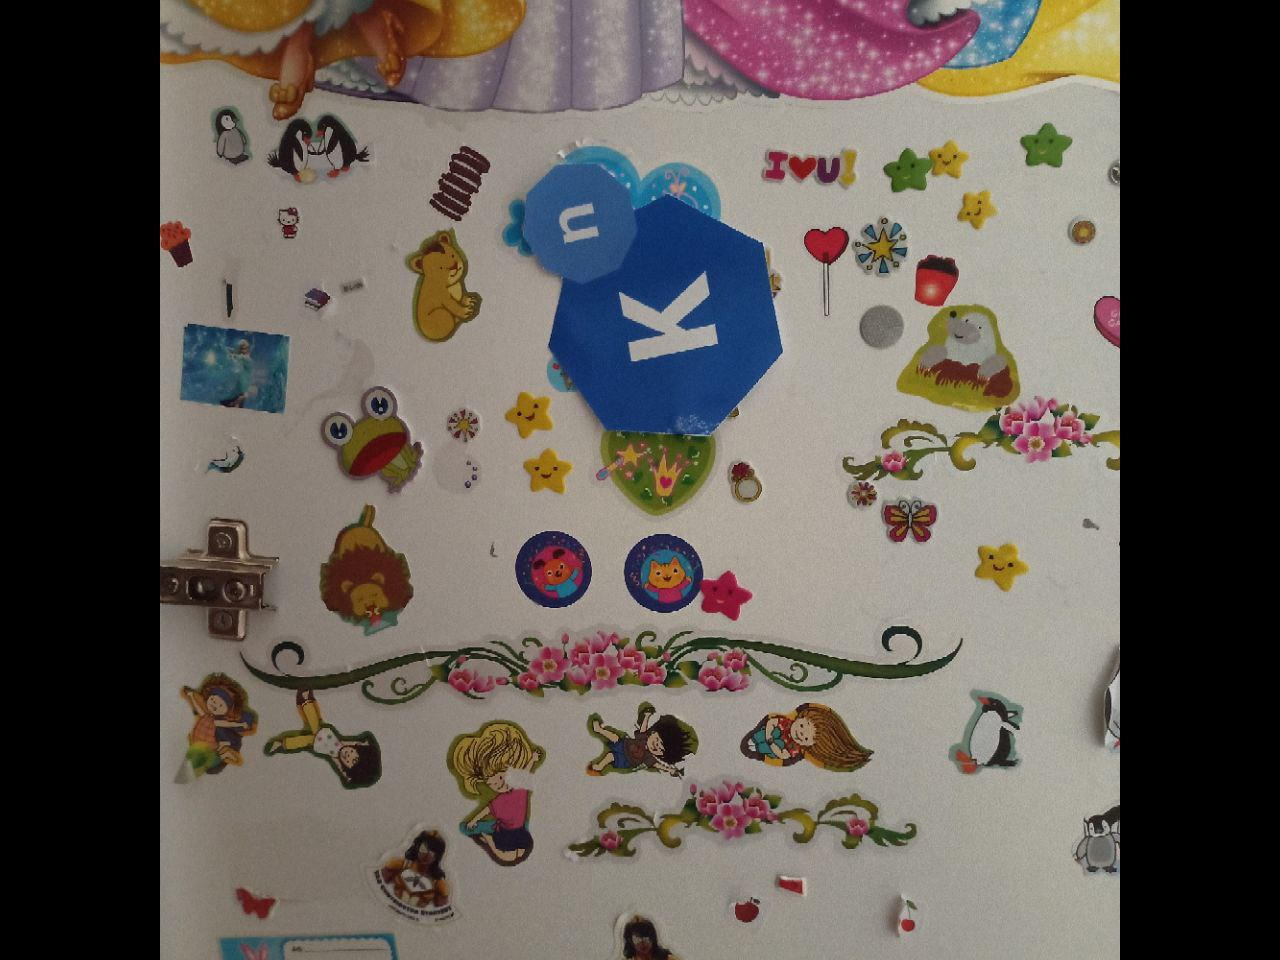knative: (520, 160, 784, 435)
